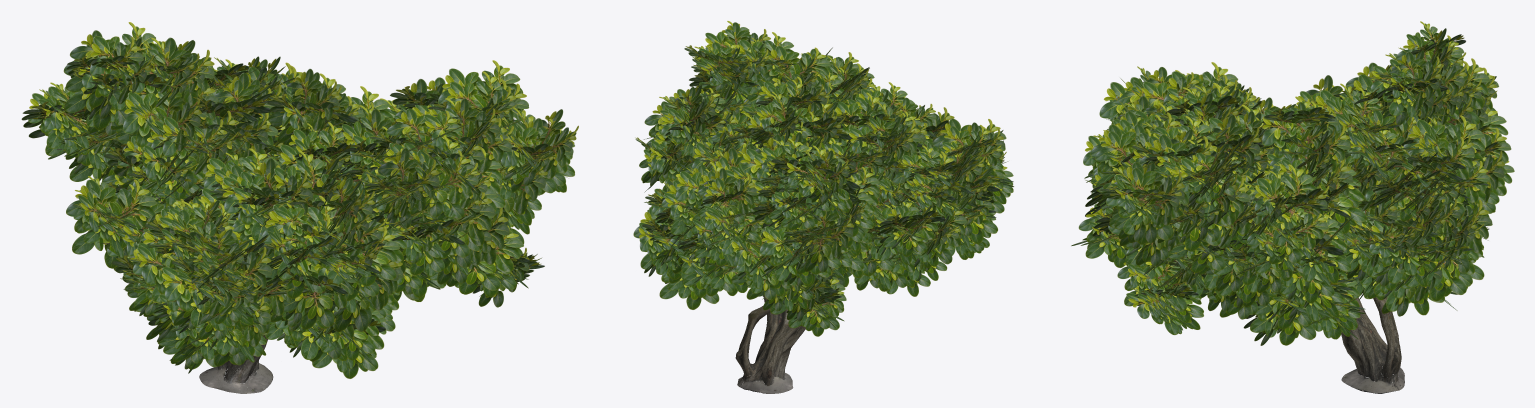
The model's file is island_tree_02.glb.
3 renders of one model, left to right at view 1: azimuth 30°, elevation 25°; view 2: azimuth 150°, elevation 25°; view 3: azimuth 270°, elevation 25°, orthographic. The views are drawn at different scales.
Parts seen in each view (by area): view 1: LeafCards, island_tree_02_LOD0; view 2: LeafCards, island_tree_02_LOD0; view 3: LeafCards, island_tree_02_LOD0.
Boxes of the visible parts, box(x1,y1,x2,y2) form: LeafCards: box(21, 22, 578, 378); island_tree_02_LOD0: box(57, 70, 525, 393); LeafCards: box(633, 21, 1013, 336); island_tree_02_LOD0: box(705, 79, 967, 393); LeafCards: box(1071, 21, 1514, 345); island_tree_02_LOD0: box(1148, 94, 1448, 393).
Size of the model in its own units: 4.84 by 3.72 by 5.11.
Materials: 3 (3 with a texture image).
